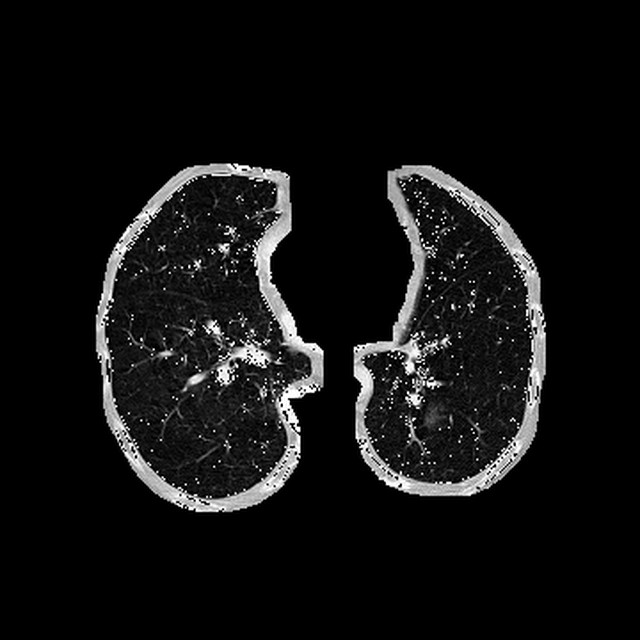PN: (423, 404, 444, 425)
